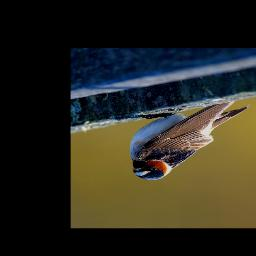Swallow: (128, 98, 250, 181)
